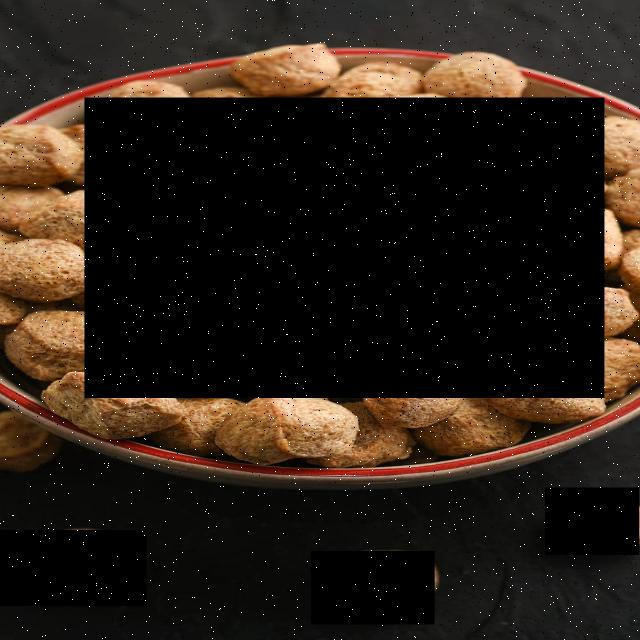Nutrela: (85, 98, 605, 398), (0, 530, 147, 606), (311, 551, 435, 625), (546, 488, 640, 555)
